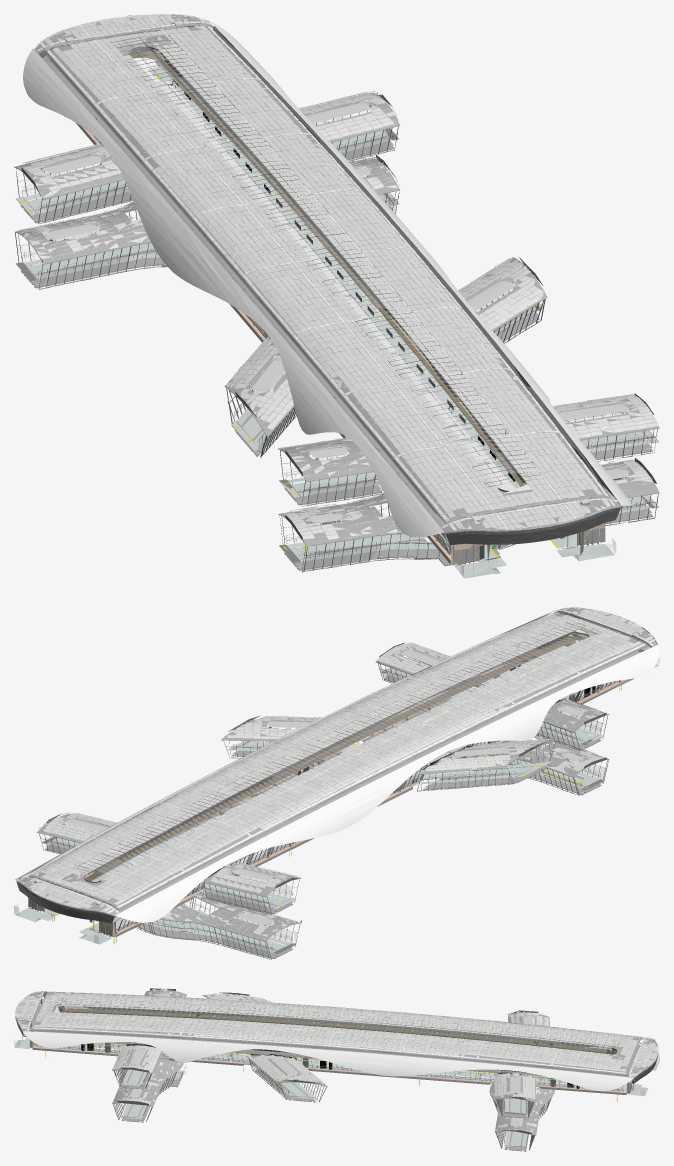
The model's file is e15-architecture-web-ue-1.glb.
3 renders of one model, top to bottom at view 1: azimuth 30°, elevation 25°; view 2: azimuth 150°, elevation 25°; view 3: azimuth 270°, elevation 25°, orthographic. The views are drawn at different scales.
Size of the model in its own units: 63.79 by 19.33 by 154.
